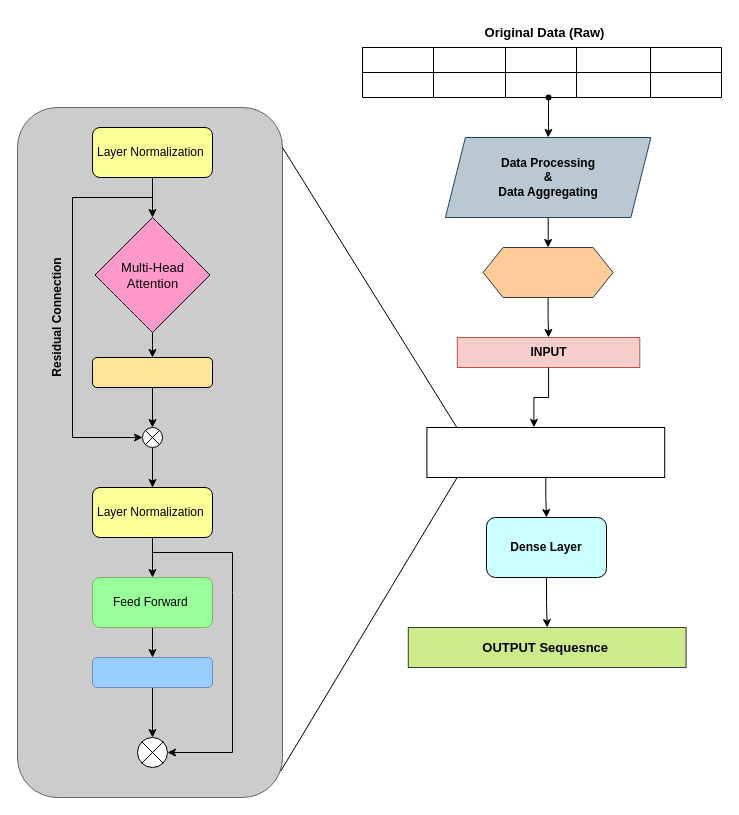
This 739x815 diagram has some shape labels left out. Each missing label, with the centre of its shape:
"Dropout" goes at pixel 152 372.
"MLP" goes at pixel 152 672.
"Transformers Layer" goes at pixel 545 452.
"Windowing" goes at pixel 547 272.
